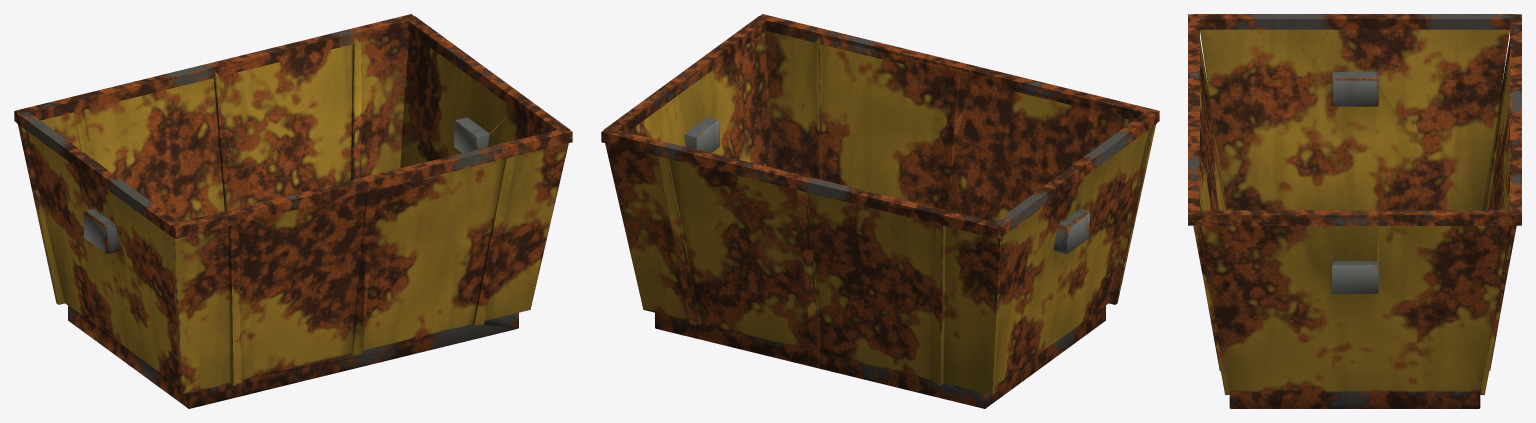
File: junkyard_scrap_skip_01.glb
3 views of the same model, side by side, from view 1: azimuth 30°, elevation 25°; view 2: azimuth 150°, elevation 25°; view 3: azimuth 270°, elevation 25° (orthographic). The views are drawn at different scales.
Parts seen in each view (by area): view 1: junkyard_scrap_skip_01; view 2: junkyard_scrap_skip_01; view 3: junkyard_scrap_skip_01.
Boxes of the visible parts, bbox=[...] form: junkyard_scrap_skip_01: bbox=[14, 14, 572, 408]; junkyard_scrap_skip_01: bbox=[601, 14, 1159, 408]; junkyard_scrap_skip_01: bbox=[1188, 14, 1521, 408].
Bounding box in the file's own units: 1.8 × 0.8825 × 1.27.
1 material, 1 textured.
